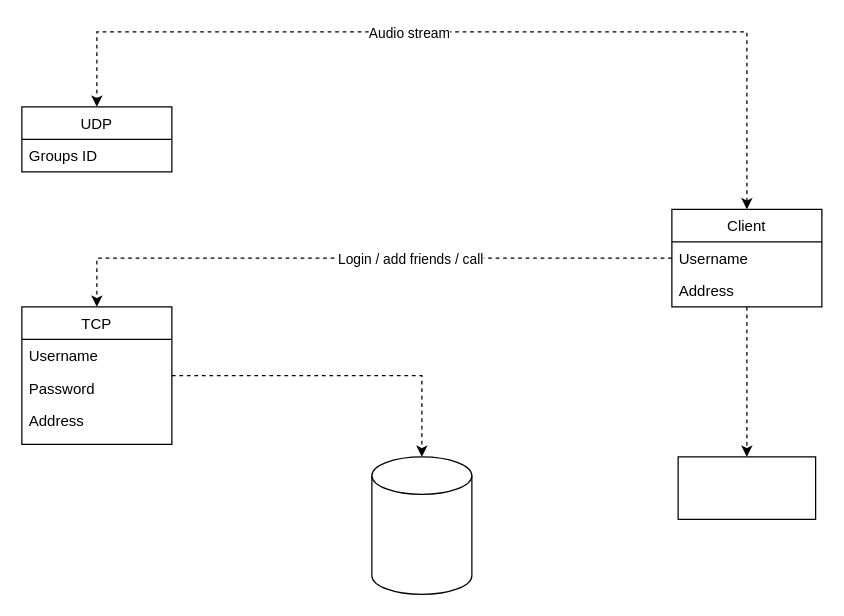
The diagram is 844 pixels wide and 616 high, and some of its shapes have lost their labels. Each missing label, with the centre of its shape:
"Database" goes at point 421,525.
"User Interface" goes at point 746,487.
